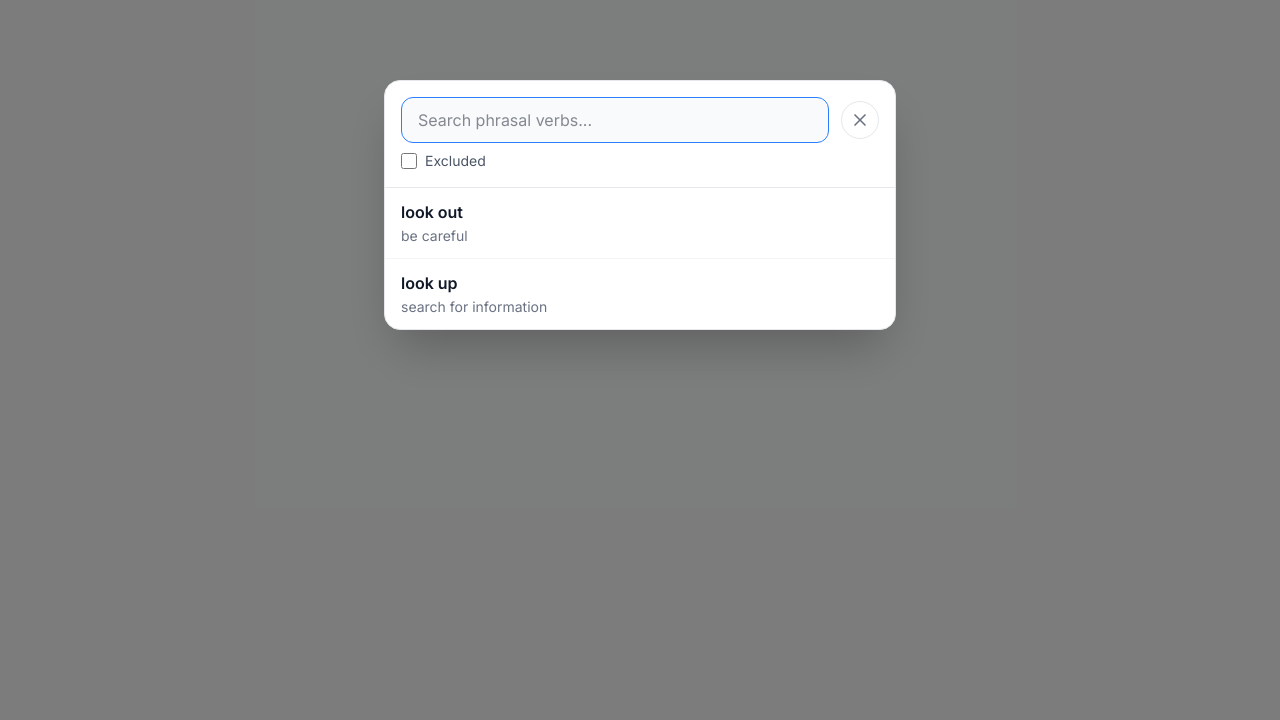
Test case: SearchModal › ranks best match first when query is non-empty
Type "look up" into the field with placeholder "Search phrasal verbs..." at (615, 120), box [401,97,829,143]
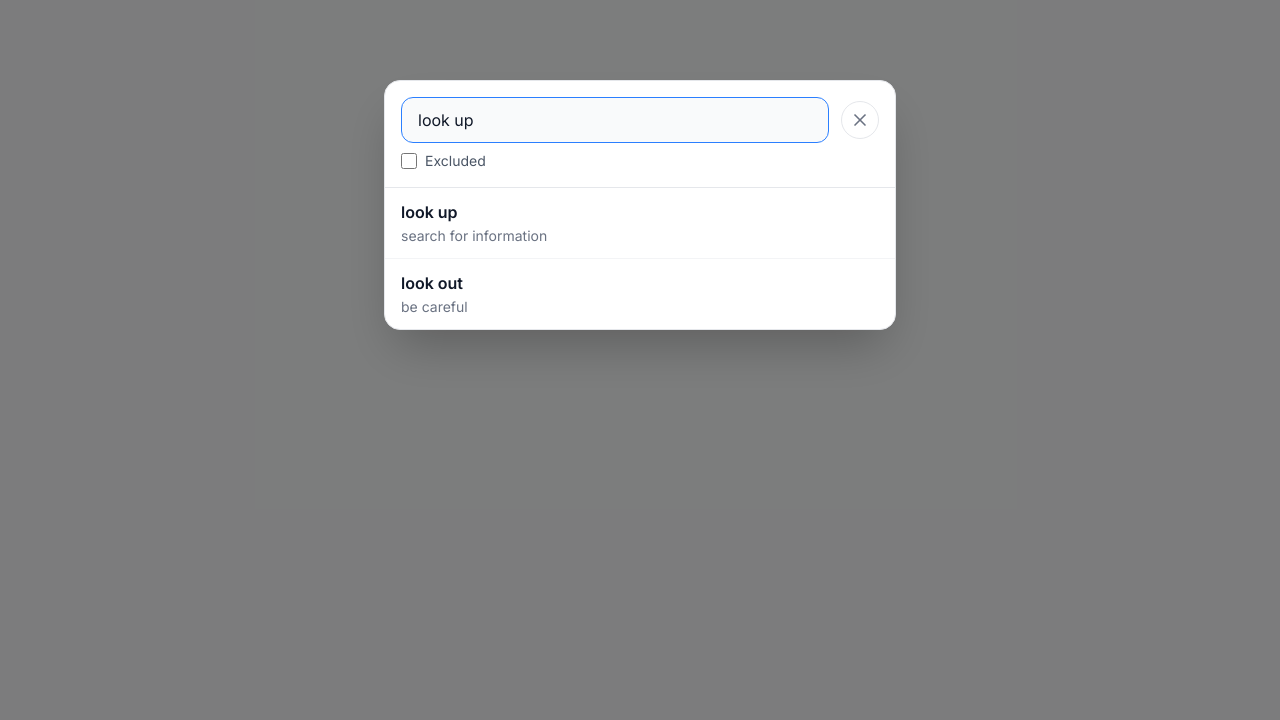
Now the text with class "font-semibold" reads "look up", box [401,202,458,222]
